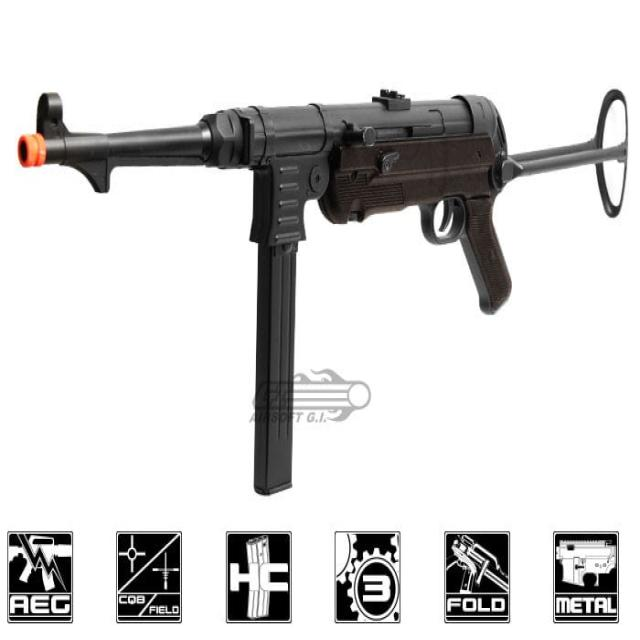SMG: (16, 90, 630, 498)
